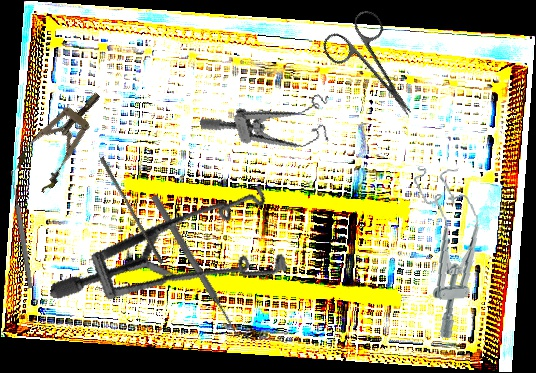Iris Scissors: (317, 5, 435, 135)
Pusher: (149, 193, 242, 339), (95, 156, 169, 265)
Speculum: (48, 137, 309, 361), (413, 162, 488, 340), (198, 83, 341, 174), (10, 80, 117, 196)
Surgical Spoon: (8, 170, 35, 289)
